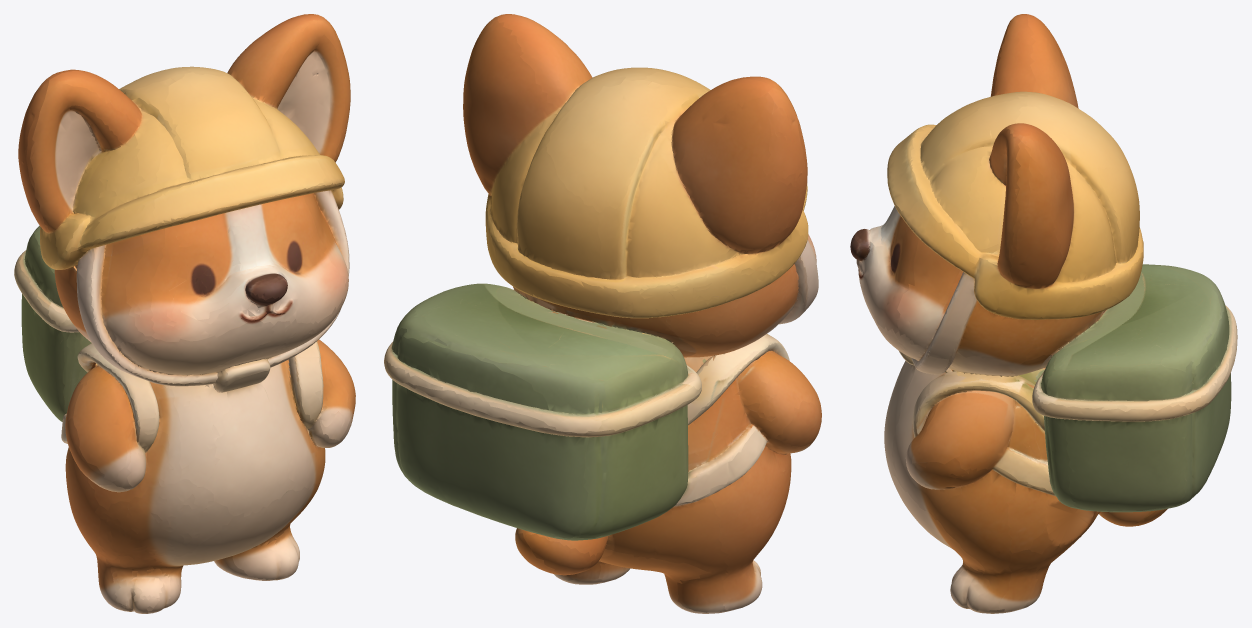
The picture shows the model from 3 angles, left to right: view 1: azimuth 30°, elevation 25°; view 2: azimuth 150°, elevation 25°; view 3: azimuth 270°, elevation 25°; orthographic projection. The views are drawn at different scales.
Parts seen in each view (by area): view 1: geometry_0; view 2: geometry_0; view 3: geometry_0.
Part boxes in pixels (left/top/right/bottom): geometry_0: left=14, top=14, right=355, bottom=613; geometry_0: left=384, top=14, right=821, bottom=613; geometry_0: left=850, top=14, right=1237, bottom=613.
Bounding box in the file's own units: 0.0718 × 0.11 × 0.0769.
3 materials, 3 textured.
